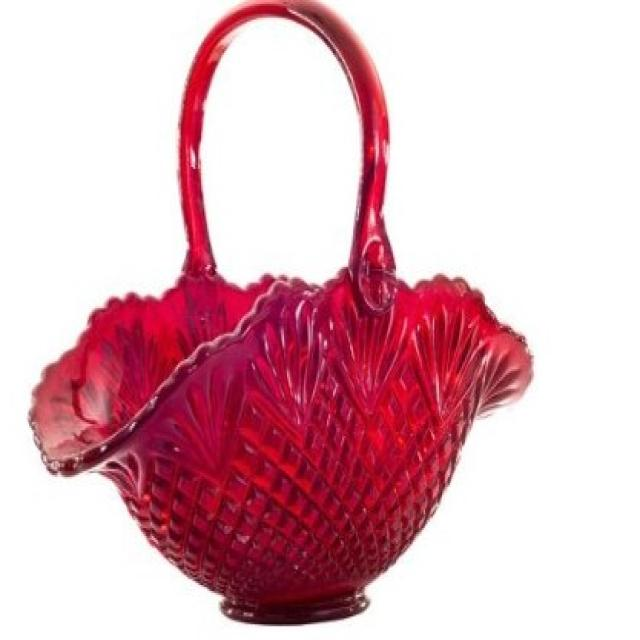electronic: (26, 0, 534, 626)
